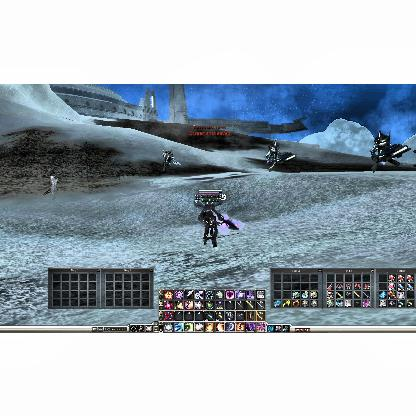caliana: (195, 202, 236, 246), (39, 175, 59, 199)
